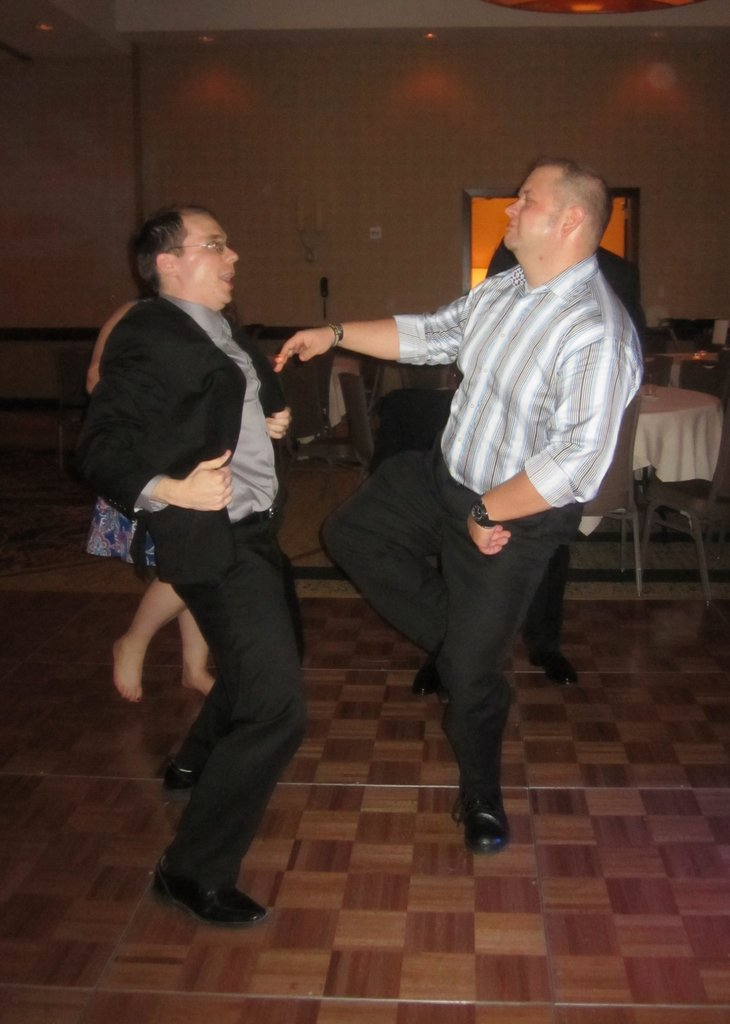Human_hand: (180, 448, 232, 512), (272, 327, 334, 374), (466, 515, 512, 556), (264, 406, 294, 441)
